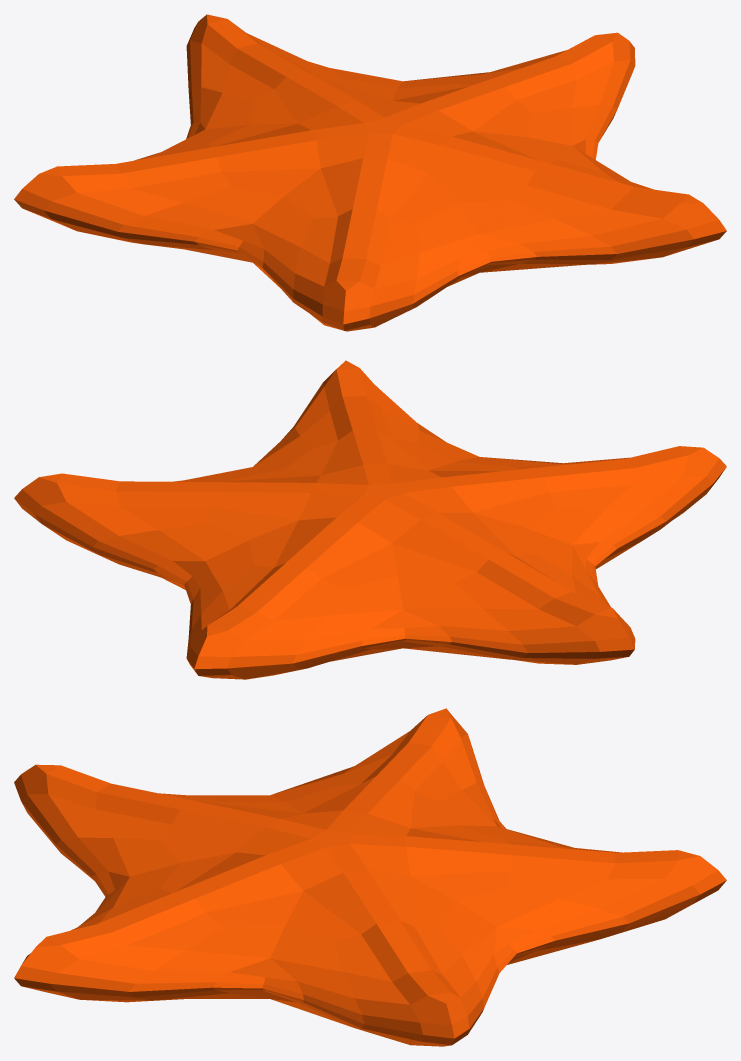
File: Starfish.fbx
The picture shows the model from 3 angles, top to bottom: view 1: azimuth 30°, elevation 25°; view 2: azimuth 150°, elevation 25°; view 3: azimuth 270°, elevation 25°; orthographic projection. The views are drawn at different scales.
Visible parts, largest first — view 1: Cylinder; view 2: Cylinder; view 3: Cylinder.
Part boxes in pixels (x1,y1,x2,y2): Cylinder: (14, 14, 726, 331); Cylinder: (14, 360, 726, 679); Cylinder: (14, 708, 726, 1046).
Size of the model in its own units: 26.55 by 4.29 by 25.25.
